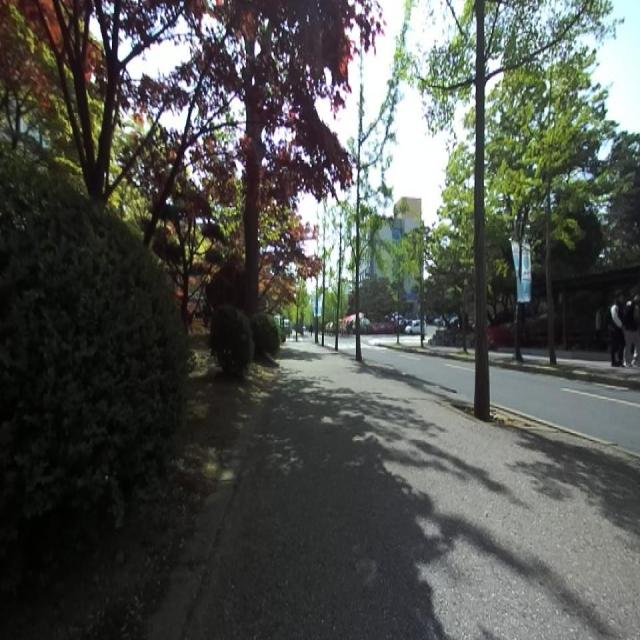sidewalk: (184, 343, 640, 638)
